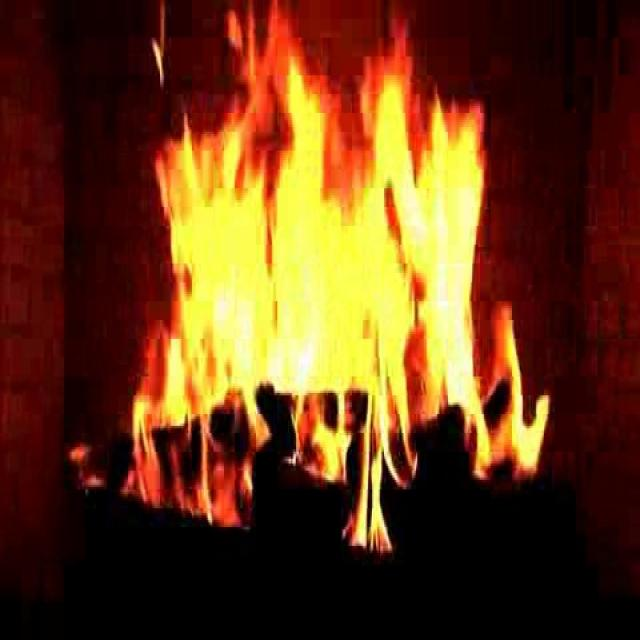fire: (143, 61, 540, 546)
